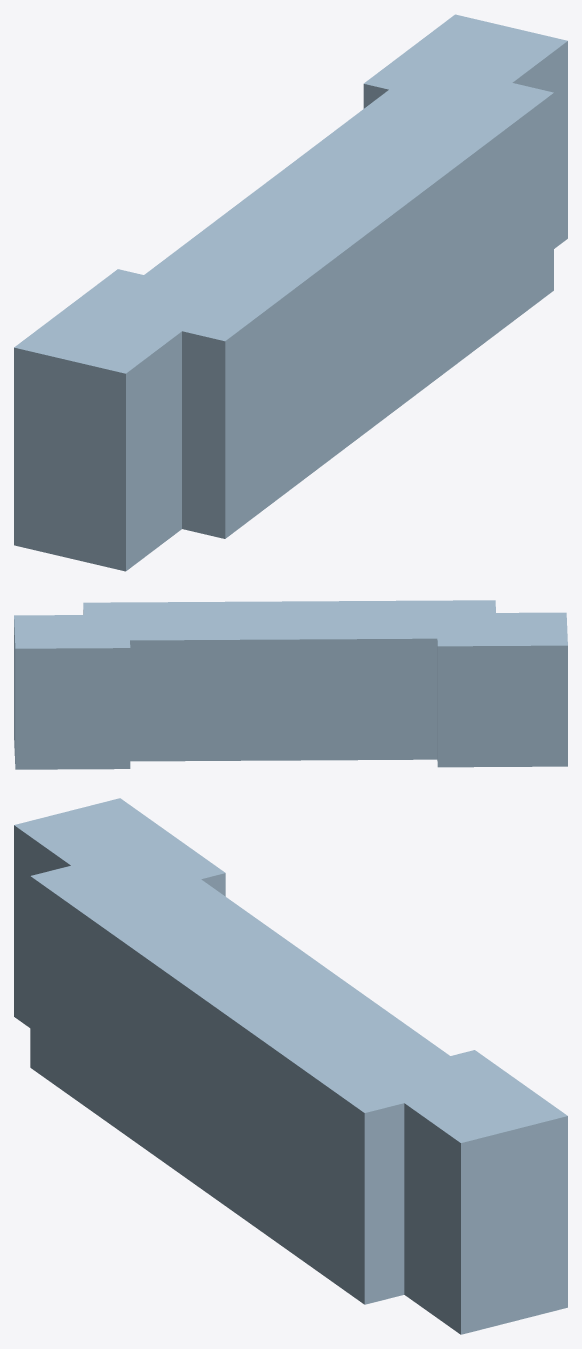
File: osm_way_225242517.glb
The picture shows the model from 3 angles, top to bottom: view 1: azimuth 30°, elevation 25°; view 2: azimuth 150°, elevation 25°; view 3: azimuth 270°, elevation 25°; orthographic projection. The views are drawn at different scales.
Parts seen in each view (by area): view 1: osm_way_225242517; view 2: osm_way_225242517; view 3: osm_way_225242517.
Boxes of the visible parts, <box> form: osm_way_225242517: <box>14,14,567,571</box>; osm_way_225242517: <box>14,600,567,769</box>; osm_way_225242517: <box>14,798,567,1334</box>.
Size of the model in its own units: 74.13 by 19.2 by 50.3.
